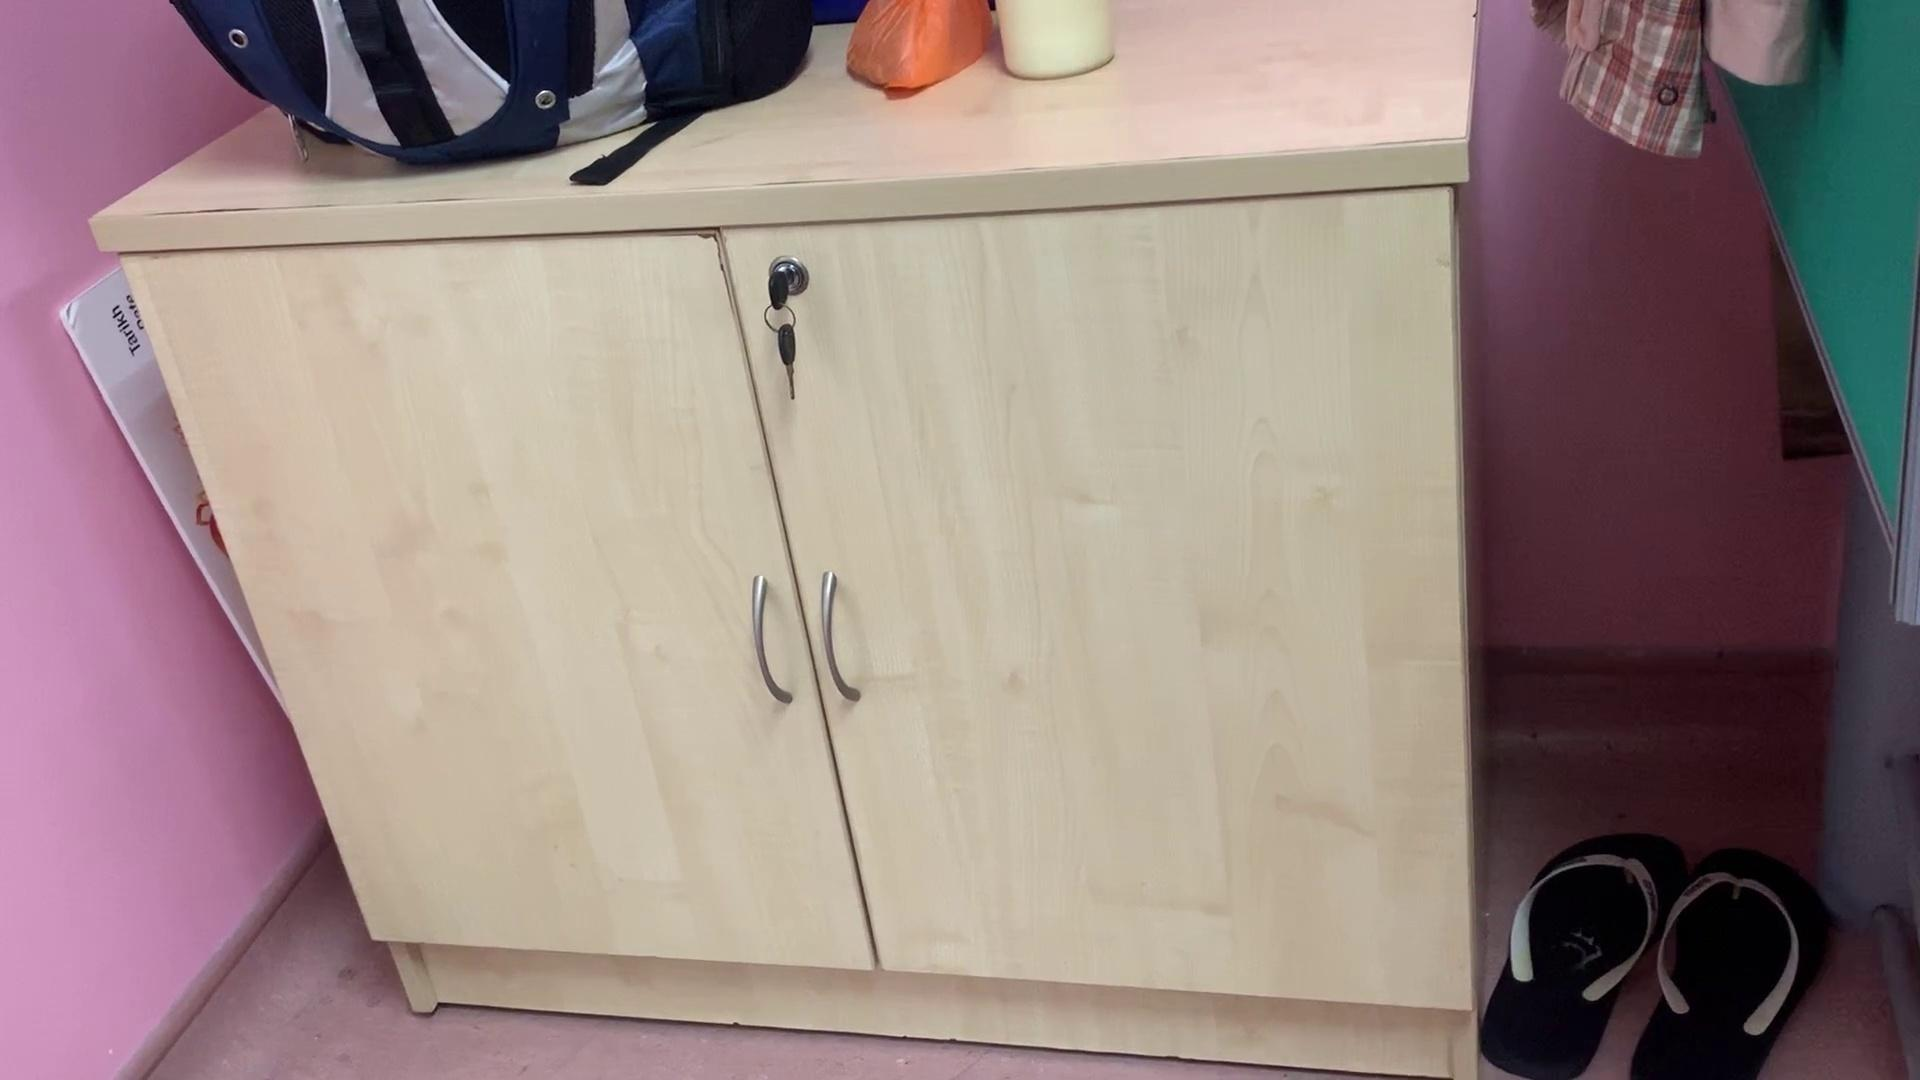cabinet_door: (816, 222, 1466, 981), (284, 241, 808, 959)
handle: (811, 564, 870, 703), (738, 572, 795, 711)
